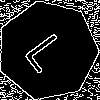L: (23, 25, 77, 75)
